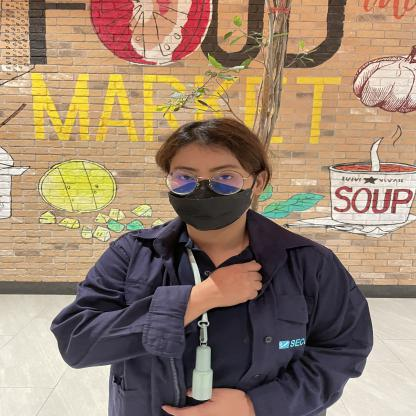Sadness: (164, 251, 299, 328)
